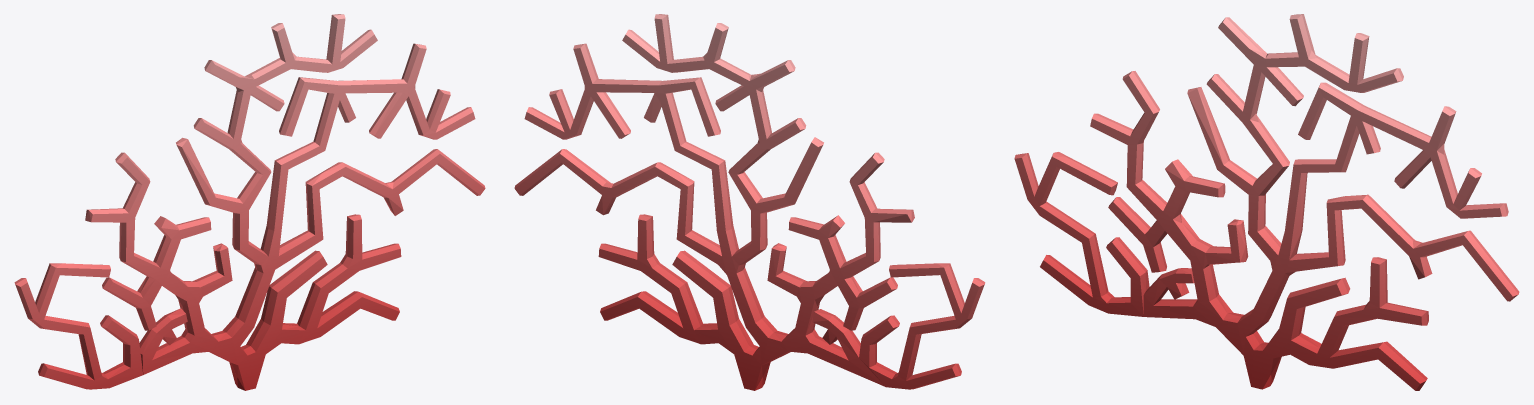
Rendered from SM_Coral_3.fbx.
3 renders of one model, left to right at view 1: azimuth 30°, elevation 25°; view 2: azimuth 150°, elevation 25°; view 3: azimuth 330°, elevation 25°, orthographic. The views are drawn at different scales.
Parts seen in each view (by area): view 1: Coral_3; view 2: Coral_3; view 3: Coral_3.
Part boxes in pixels (x1,y1,x2,y2): Coral_3: [14, 14, 485, 390]; Coral_3: [514, 14, 985, 390]; Coral_3: [1014, 14, 1519, 390].
Size of the model in its own units: 185 by 133 by 6.93.
